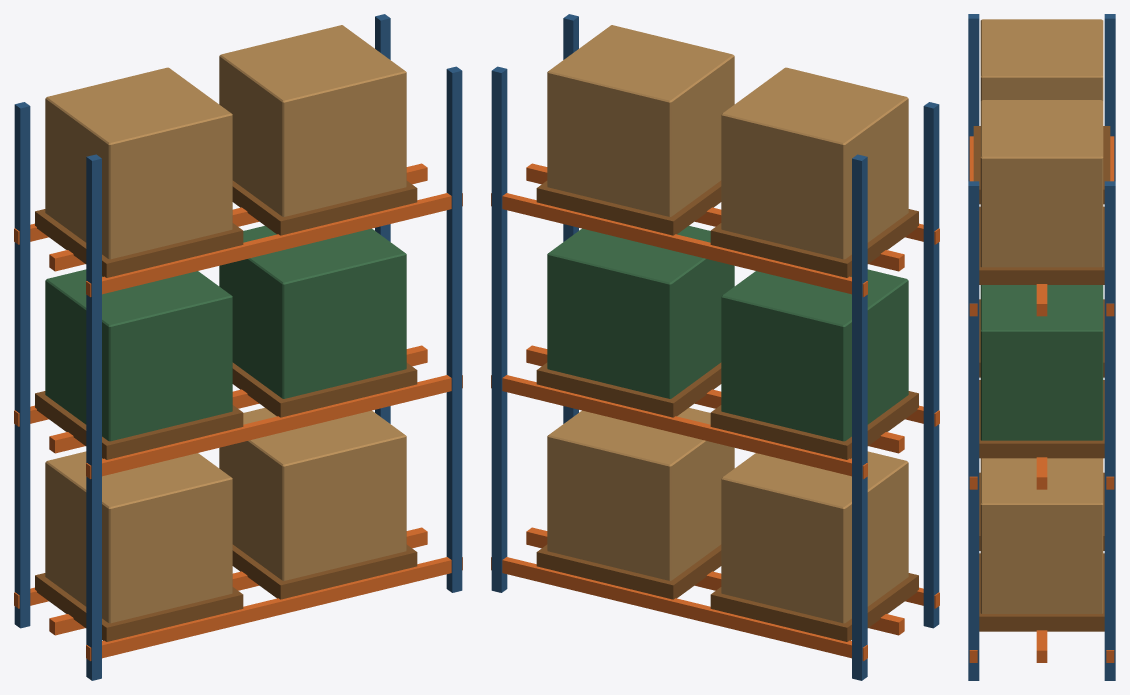
The model's file is pallet_rack_tall.glb.
3 views of the same model, side by side, from view 1: azimuth 30°, elevation 25°; view 2: azimuth 150°, elevation 25°; view 3: azimuth 270°, elevation 25° (orthographic). The views are drawn at different scales.
Parts seen in each view (by area): view 1: pallet_rack_tall; view 2: pallet_rack_tall; view 3: pallet_rack_tall.
Boxes of the visible parts, x1=… form: pallet_rack_tall: x1=14, y1=14, x2=462, y2=680; pallet_rack_tall: x1=491, y1=14, x2=939, y2=680; pallet_rack_tall: x1=968, y1=14, x2=1115, y2=680.
Size of the model in its own units: 3 by 4.05 by 1.08.
